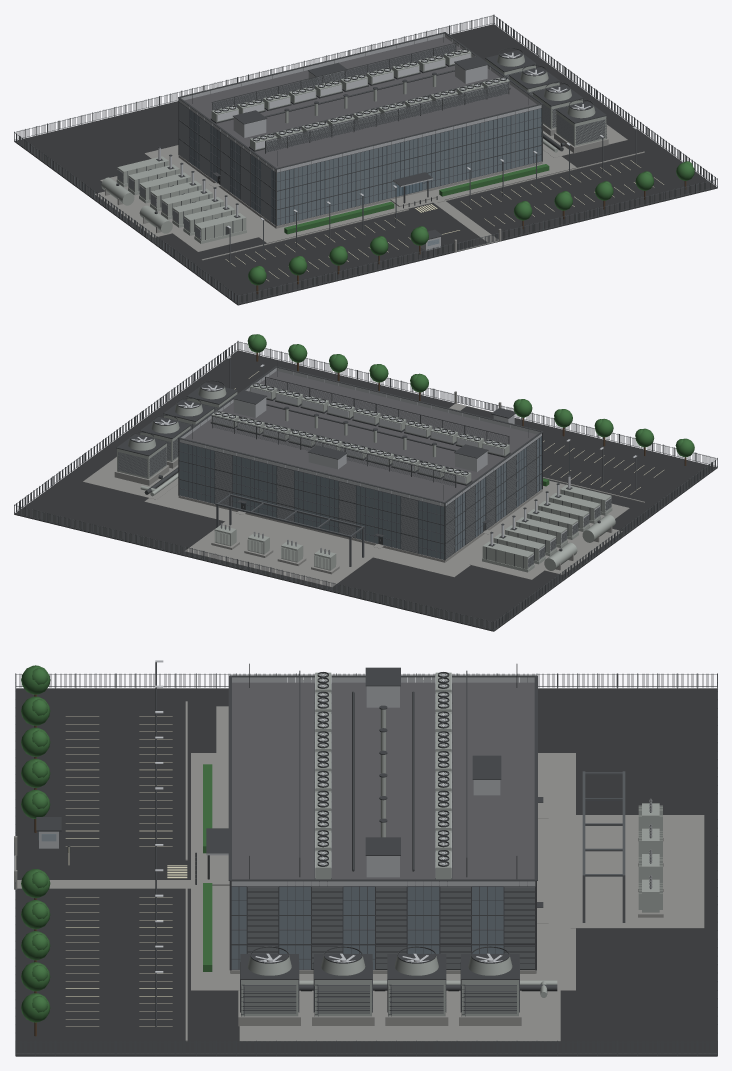
The model's file is building.glb.
The picture shows the model from 3 angles, top to bottom: view 1: azimuth 30°, elevation 25°; view 2: azimuth 150°, elevation 25°; view 3: azimuth 270°, elevation 25°; orthographic projection. The views are drawn at different scales.
Visible parts, largest first — view 1: SiteGround_Asphalt, WallCore, RoofDeck, RoofEquipment, CurtainGlass_South_F3, CurtainGlass_South_F2, SiteGround_Pavement_Building, CurtainGlass_South_F1, Landscape, RoofScreens_South, Fence_North, RoofScreens_North (+36 smaller); view 2: SiteGround_Asphalt, RoofDeck, WallCore, RoofEquipment, SiteGround_Pavement_Building, SiteGround_Pad_Substation, Fence_North, CurtainGlass_North_F3, CurtainGlass_North_F2, Landscape, RoofScreens_North, CurtainGlass_North_F1 (+39 smaller); view 3: SiteGround_Asphalt, RoofDeck, SiteGround_Pavement_Building, RoofEquipment, SiteGround_Pad_Substation, WallCore, SiteGround_Pad_CoolingTowers, Landscape, Fence_East, CoolingTower_03, CoolingTower_01, CoolingTower_04 (+39 smaller).
Part boxes in pixels (x1,y1,x2,y2): SiteGround_Asphalt: [14, 24, 717, 305]; WallCore: [190, 108, 541, 225]; RoofDeck: [184, 37, 536, 167]; RoofEquipment: [192, 27, 528, 165]; CurtainGlass_South_F3: [277, 108, 541, 190]; CurtainGlass_South_F2: [277, 127, 541, 208]; SiteGround_Pavement_Building: [144, 145, 576, 242]; CurtainGlass_South_F1: [277, 146, 541, 225]; Landscape: [248, 161, 694, 294]; RoofScreens_South: [265, 81, 509, 153]; Fence_North: [14, 15, 493, 140]; RoofScreens_North: [211, 42, 456, 110]; SiteGround_Asphalt: [14, 350, 717, 631]; RoofDeck: [184, 371, 536, 502]; WallCore: [180, 437, 541, 559]; RoofEquipment: [192, 361, 528, 499]; SiteGround_Pavement_Building: [144, 480, 565, 577]; SiteGround_Pad_Substation: [185, 520, 374, 587]; Fence_North: [14, 505, 494, 630]; CurtainGlass_North_F3: [180, 443, 443, 524]; CurtainGlass_North_F2: [180, 461, 443, 542]; Landscape: [247, 334, 694, 465]; RoofScreens_North: [212, 415, 456, 487]; CurtainGlass_North_F1: [180, 480, 443, 559]; SiteGround_Asphalt: [15, 688, 717, 1056]; RoofDeck: [232, 682, 534, 885]; SiteGround_Pavement_Building: [191, 753, 575, 990]; RoofEquipment: [249, 663, 517, 881]; SiteGround_Pad_Substation: [570, 815, 704, 928]; WallCore: [231, 886, 503, 969]; SiteGround_Pad_CoolingTowers: [239, 984, 560, 1041]; Landscape: [21, 665, 50, 1036]; Fence_East: [15, 1040, 717, 1055]; CoolingTower_03: [385, 946, 448, 1025]; CoolingTower_01: [238, 946, 300, 1026]; CoolingTower_04: [459, 946, 521, 1025].
Size of the model in its own units: 13010 by 1870 by 10530.
